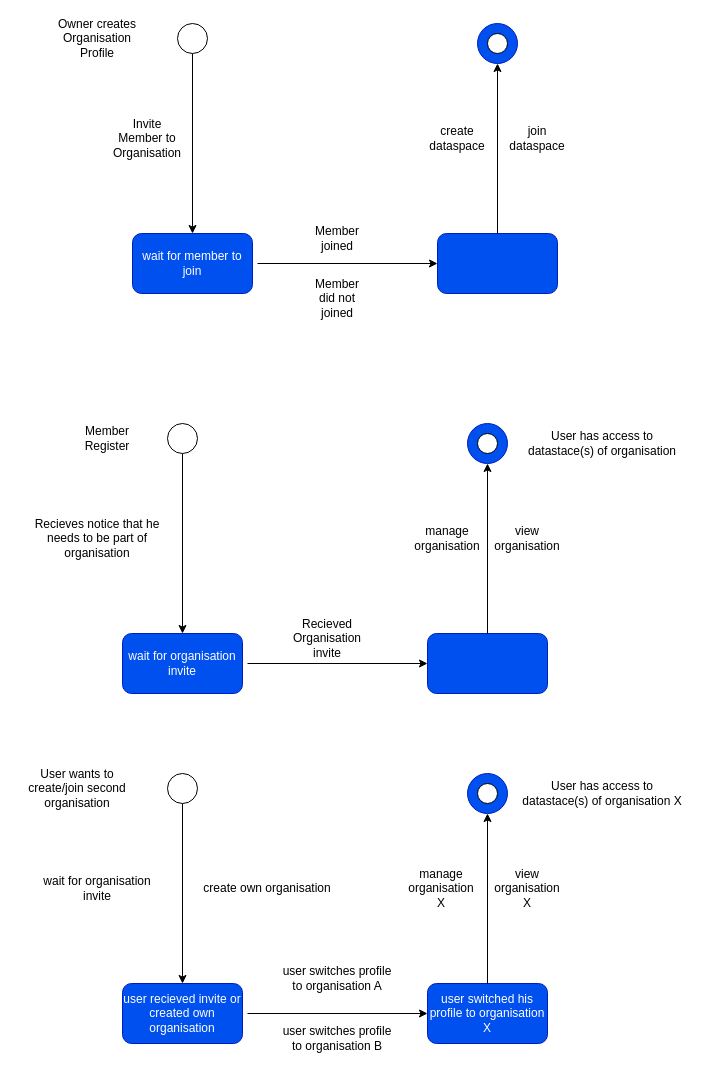
Image size: 704x1071. Some labels were removed from this diagram. Here are the shapes that lost their labels. From the top down, the centre of each, then its label:
At point (497, 263): "manage members in organisation".
At point (487, 663): "switch to organisation Profile".
